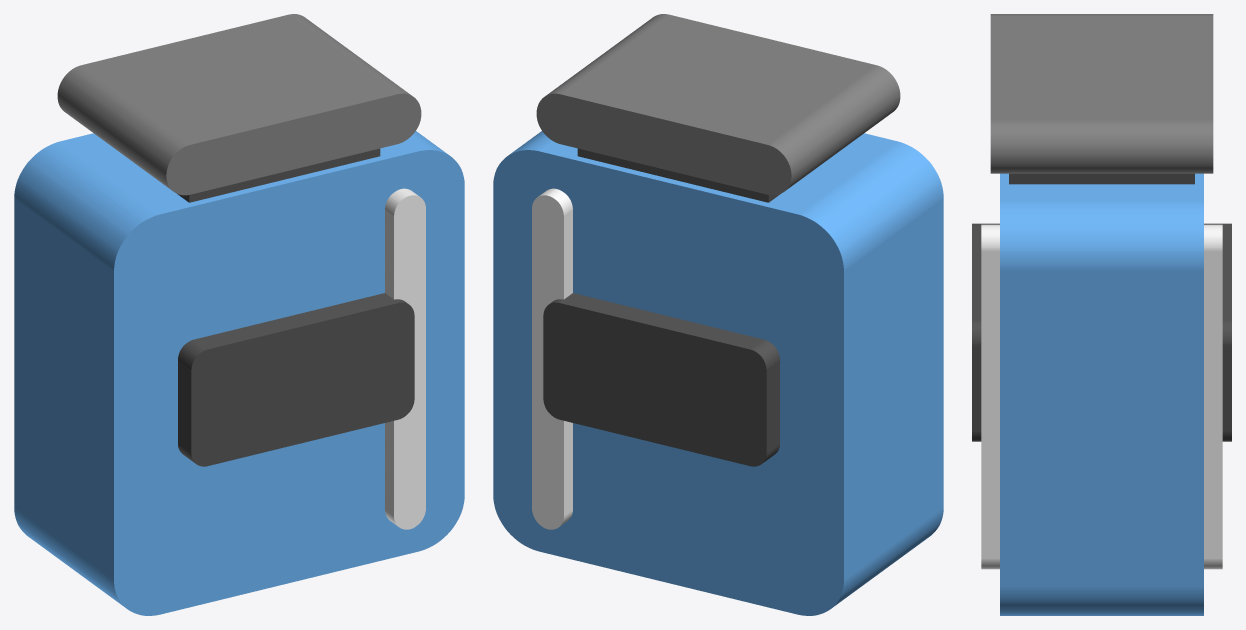
Rendered from U+1FAD9.obj.
3 renders of one model, left to right at view 1: azimuth 30°, elevation 25°; view 2: azimuth 150°, elevation 25°; view 3: azimuth 270°, elevation 25°, orthographic. The views are drawn at different scales.
Parts seen in each view (by area): view 1: U+1FAD9_layer01_obj00, U+1FAD9_layer02_obj00, U+1FAD9_layer04_obj00, U+1FAD9_layer03_obj00, U+1FAD9_layer00_obj00; view 2: U+1FAD9_layer01_obj00, U+1FAD9_layer02_obj00, U+1FAD9_layer04_obj00, U+1FAD9_layer03_obj00, U+1FAD9_layer00_obj00; view 3: U+1FAD9_layer01_obj00, U+1FAD9_layer02_obj00, U+1FAD9_layer03_obj00, U+1FAD9_layer04_obj00, U+1FAD9_layer00_obj00.
Boxes of the visible parts, x1,y1,x2,y2 form: U+1FAD9_layer01_obj00: (14,131,464,615); U+1FAD9_layer02_obj00: (57,14,421,195); U+1FAD9_layer04_obj00: (178,293,414,466); U+1FAD9_layer03_obj00: (385,188,425,529); U+1FAD9_layer00_obj00: (177,148,380,202); U+1FAD9_layer01_obj00: (493,131,943,615); U+1FAD9_layer02_obj00: (536,14,900,195); U+1FAD9_layer04_obj00: (543,293,779,466); U+1FAD9_layer03_obj00: (532,188,572,529); U+1FAD9_layer00_obj00: (577,148,780,202); U+1FAD9_layer01_obj00: (1000,173,1203,615); U+1FAD9_layer02_obj00: (990,14,1213,173); U+1FAD9_layer03_obj00: (981,224,1222,569); U+1FAD9_layer04_obj00: (972,223,1231,441); U+1FAD9_layer00_obj00: (1009,173,1194,184).
Size of the model in its own units: 0.4465 by 0.5677 by 0.28.
